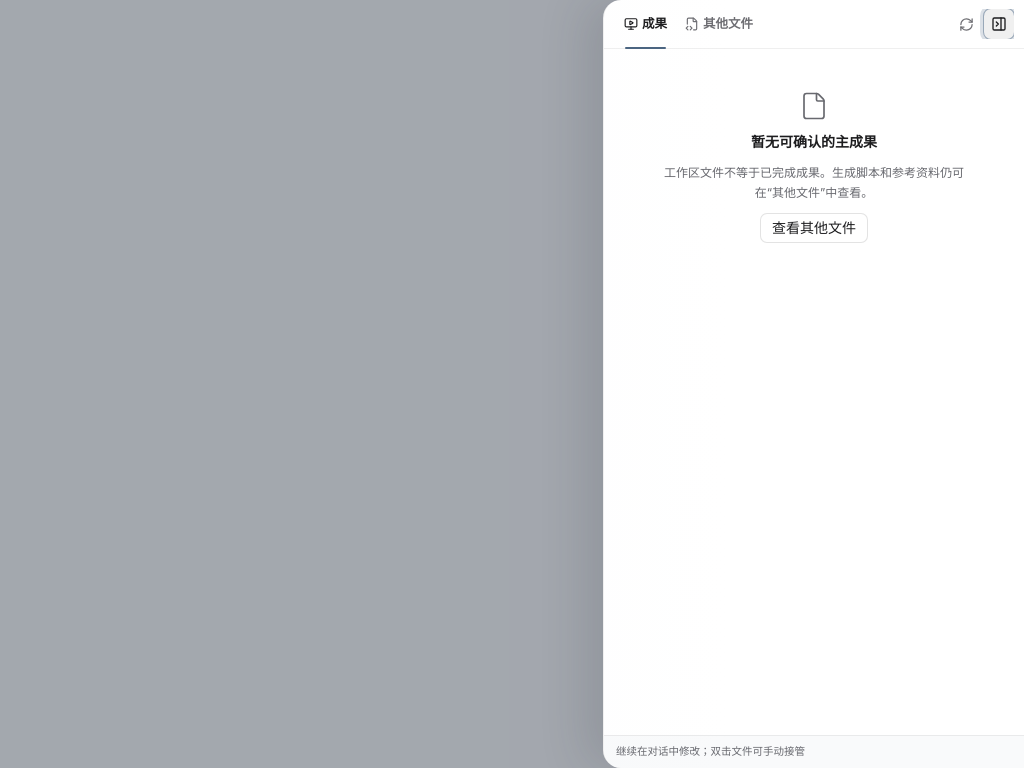
Scenario: ChatArtifactPanel › does not promote a generation script without a Work relationship
expect the text "暂无可确认的主成果" is shown: met, box top-left (751, 131), bottom-right (877, 153)
Click the button "其他文件".
click(719, 24)  # box top-left (677, 0), bottom-right (761, 48)
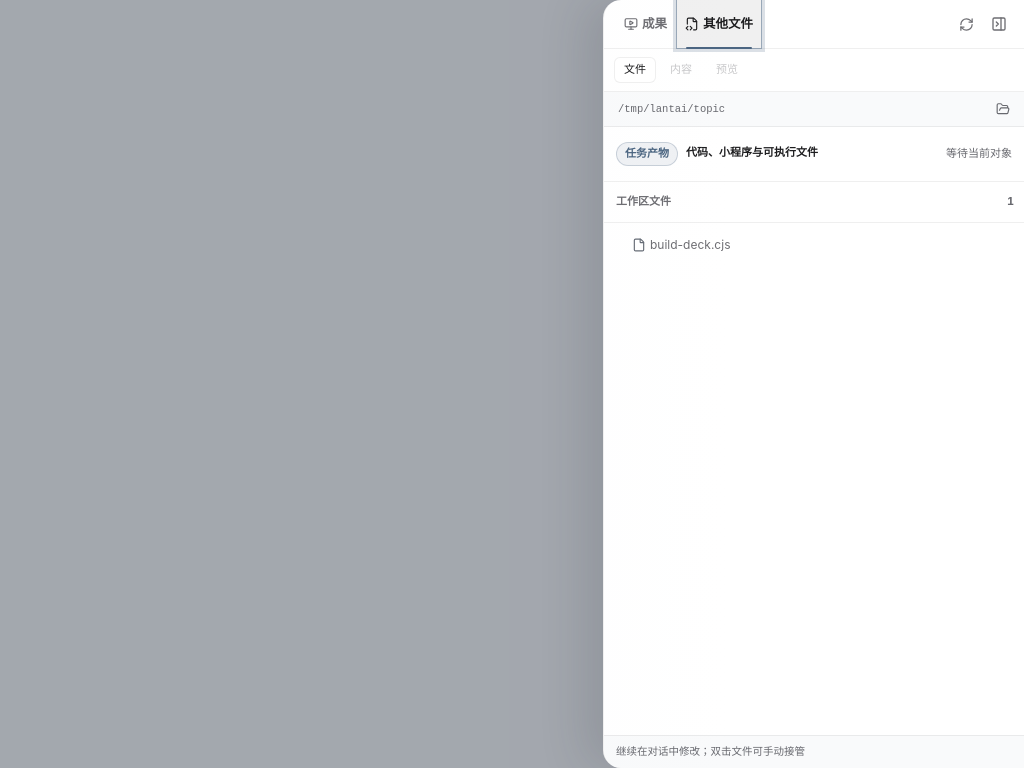
expect the text "build-deck.cjs" is shown: met, box top-left (650, 237), bottom-right (730, 252)
